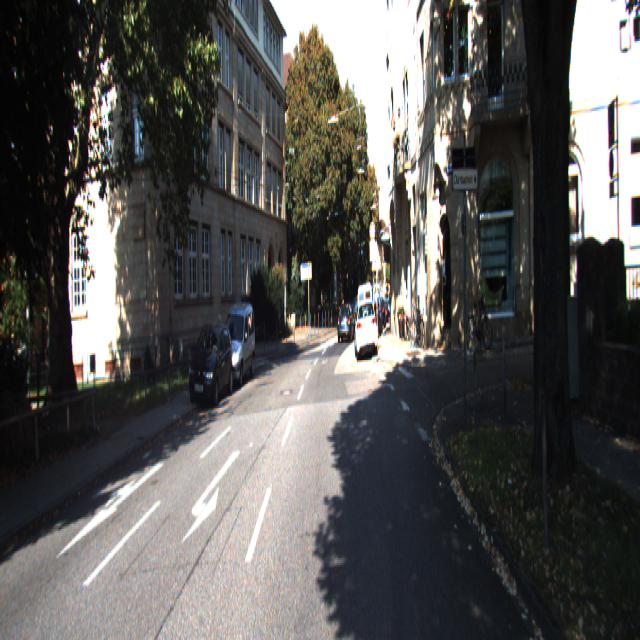Car: (185, 320, 235, 410), (217, 298, 256, 391), (609, 256, 640, 336), (354, 295, 378, 362), (357, 280, 373, 353), (337, 302, 355, 345)
